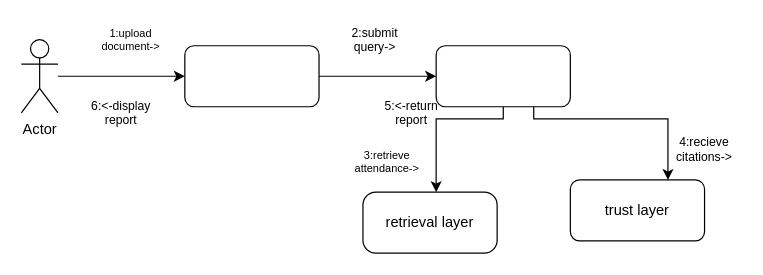
Image size: 763x275. Some labels were removed from this diagram. The shapes that lost their labels are listed below. From the top down, each one's box as (x1, y1, x2, y2) in pixels, then its label:
(184, 45, 319, 107): :workspace
(435, 45, 570, 107): :Ai orchestrator
